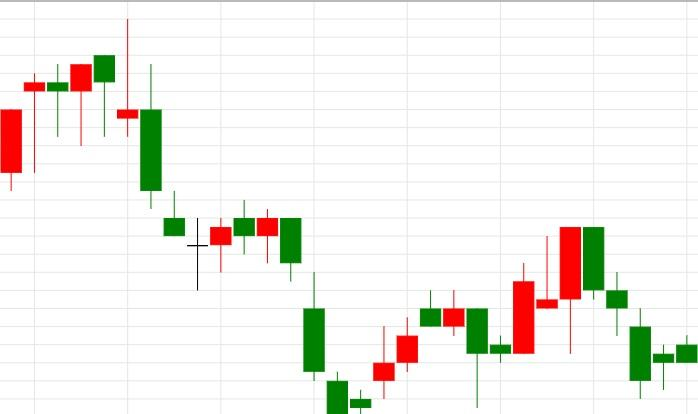hanging_man_fall: (0, 55, 115, 192)
three_black_crows_fall: (513, 226, 651, 399)
